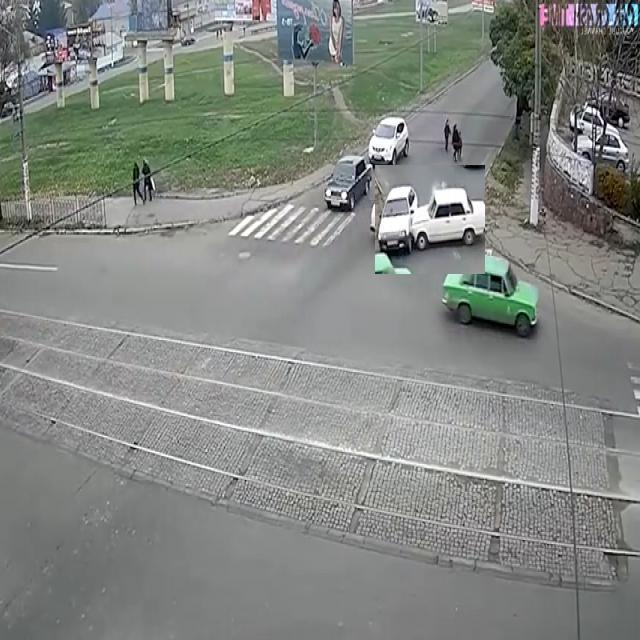multiple_accident: (360, 169, 480, 264)
